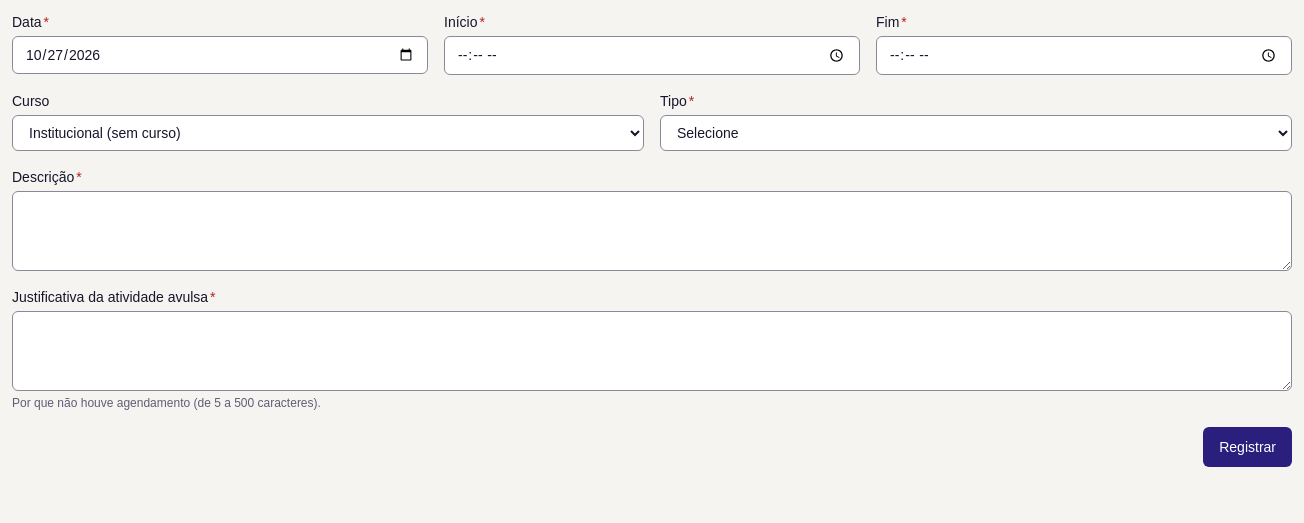
Test: AtividadeForm › Avulsa_exige_justificativa
Type "2026-09-29" into the date field labelled "Data*".
click(220, 55); type("2026-09-29")  # box [12,36,428,74]
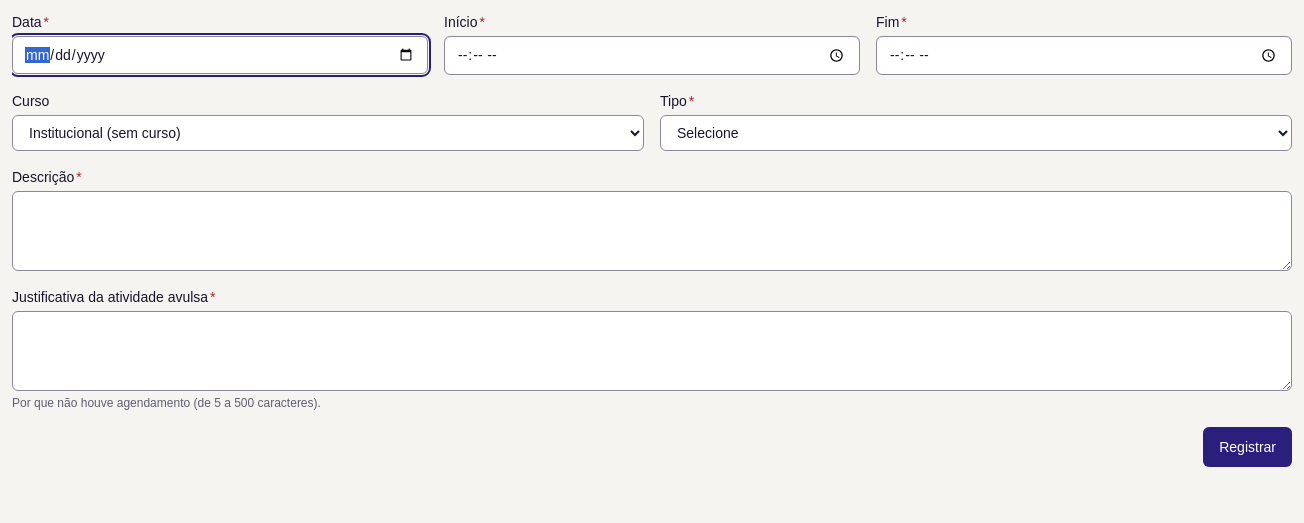
Type "08:00" into the time field labelled "Início*".
click(652, 55); type("08:00")  # box [444,36,860,75]
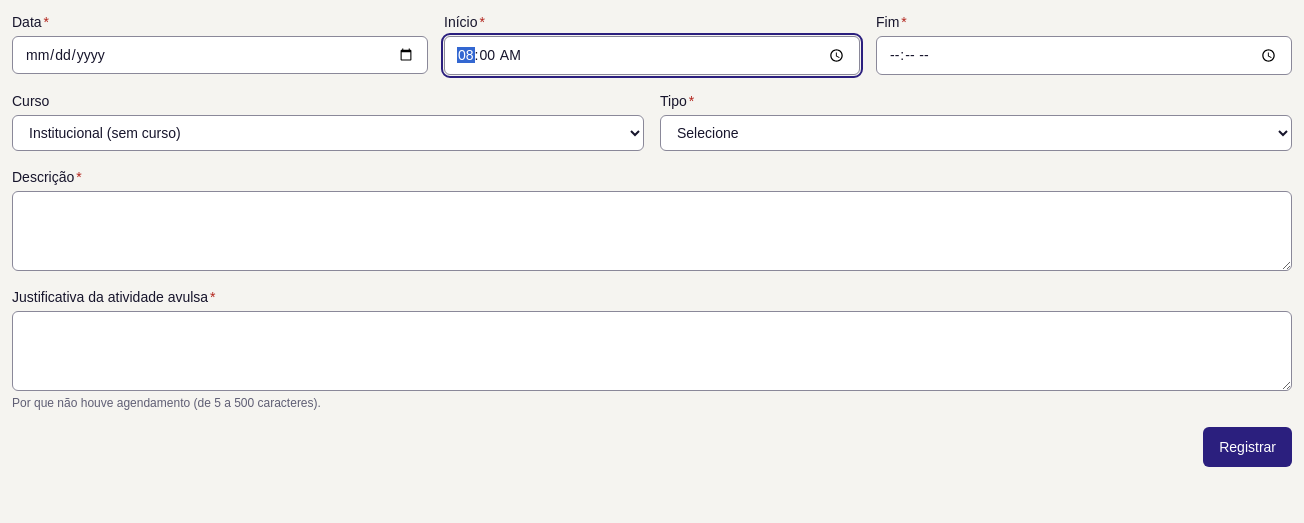
Type "09:00" into the time field labelled "Fim*".
click(1084, 55); type("09:00")  # box [876,36,1292,75]
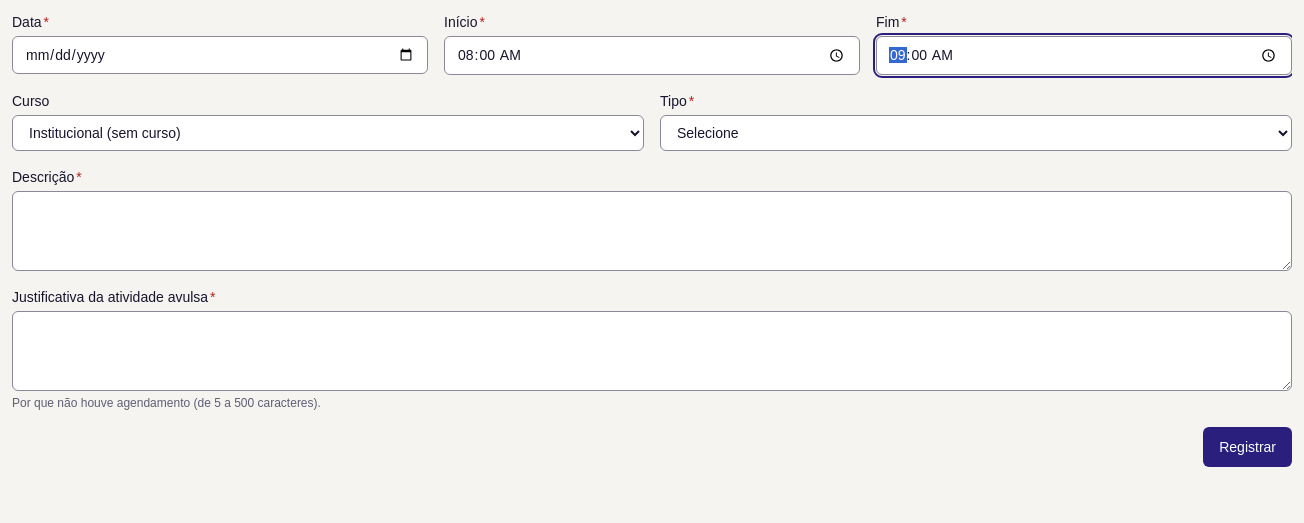
Select "Outra" in the dropdown labelled "Tipo*" at (976, 133), box [660,115,1292,151]
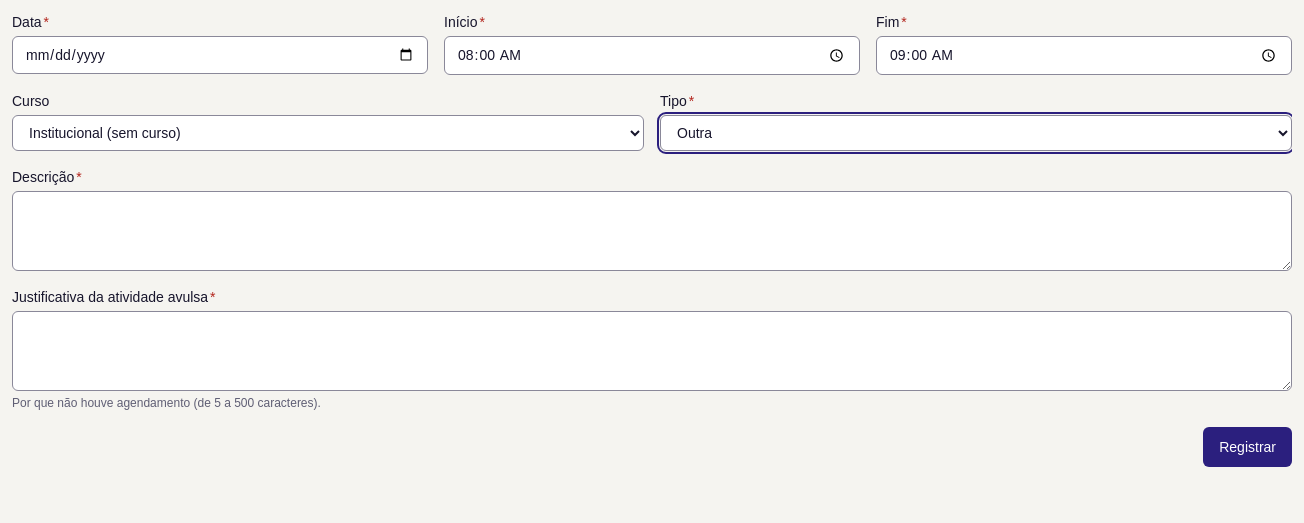
Type "Visita à turma" into the text box labelled "Descrição*".
click(652, 231); type("Visita à turma")  # box [12,191,1292,271]
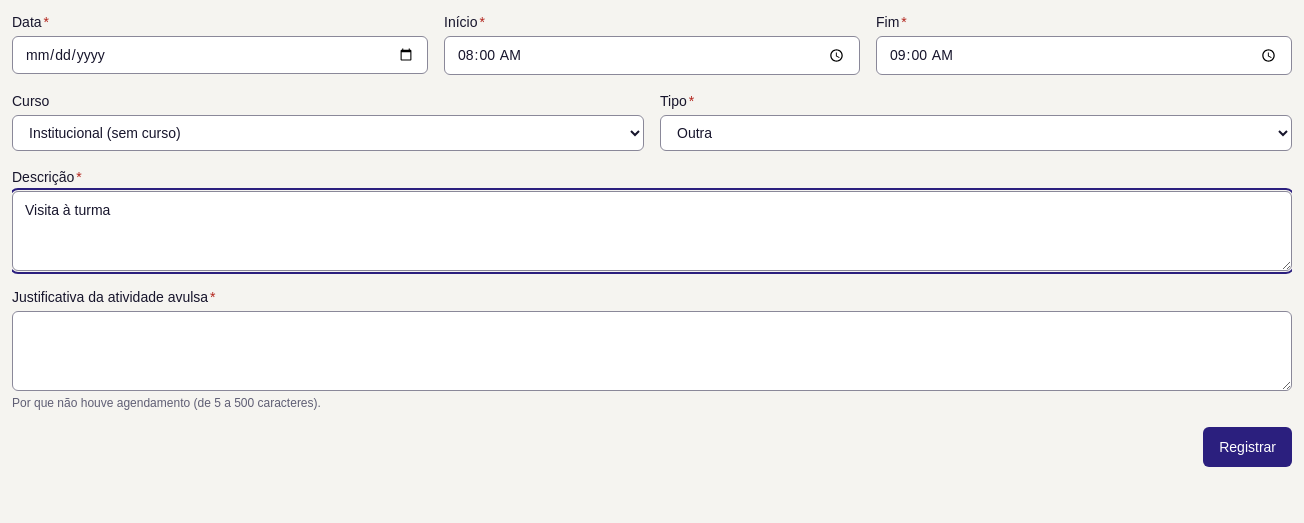
Click the button "Registrar".
click(1248, 447)  # box [1203,427,1292,467]
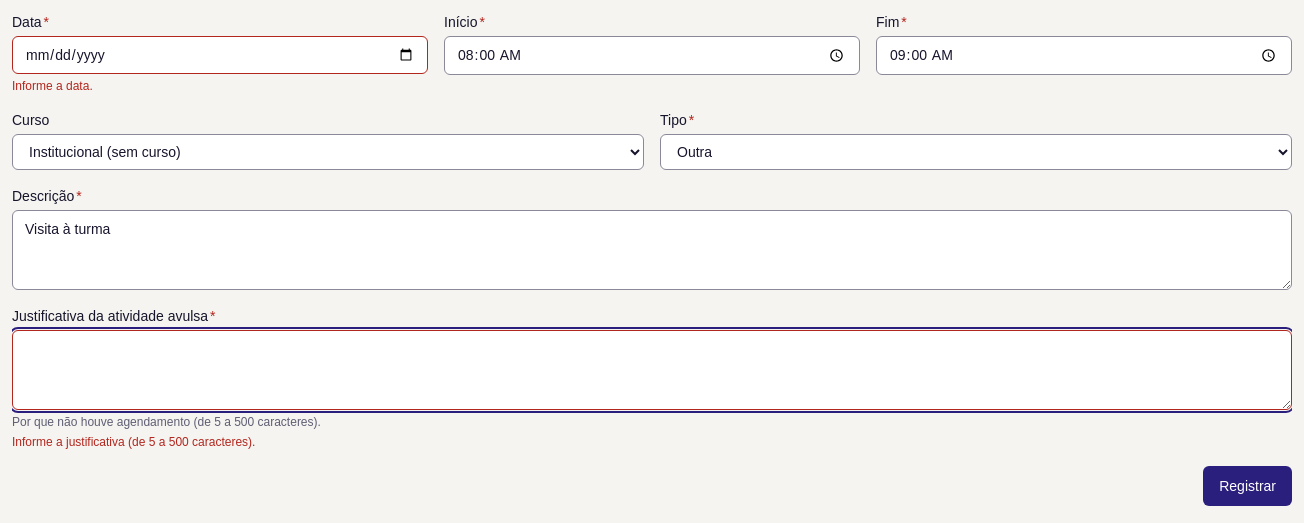
Expected: the text "Informe a justificativa (de 5 a 500 caracteres)." is shown, [12,435,256,449]
